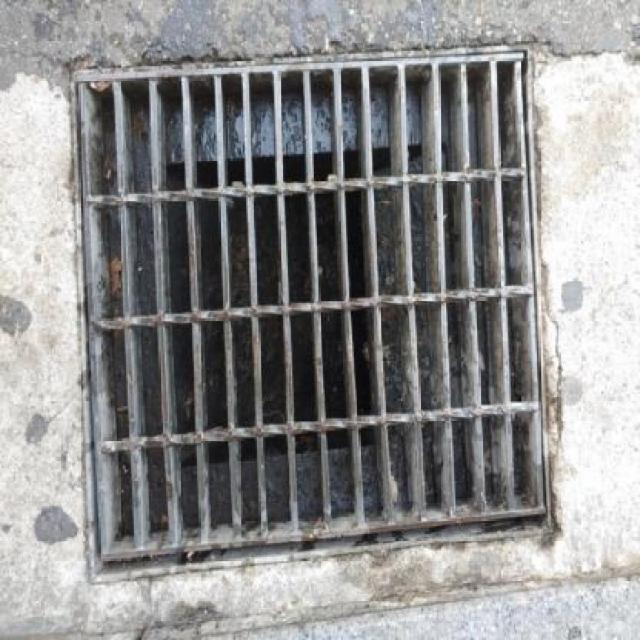Drain Hole: (48, 46, 580, 572)
